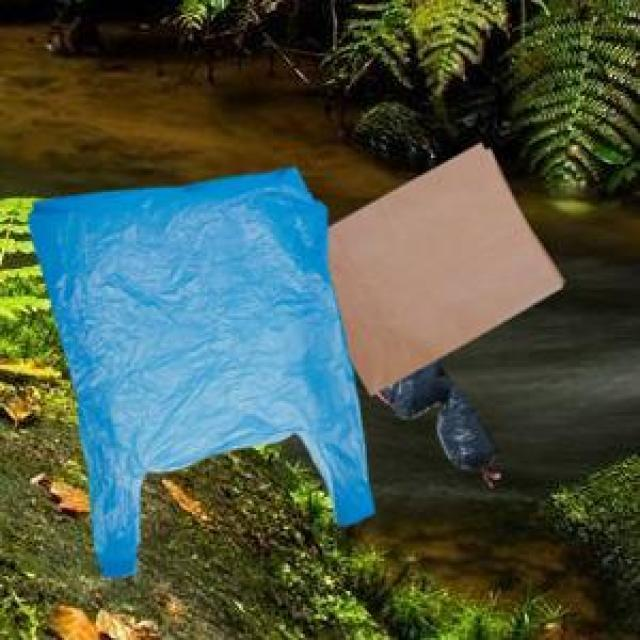miscellaneous trash: (380, 356, 491, 467)
paper: (322, 139, 559, 390)
